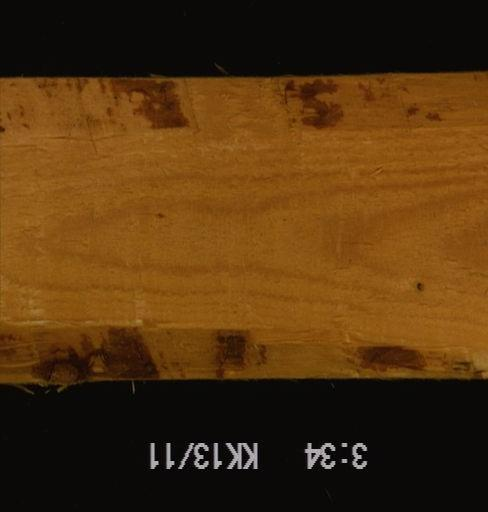small_knot: (415, 279, 424, 294)
wave: (0, 74, 486, 144), (0, 319, 486, 380)
